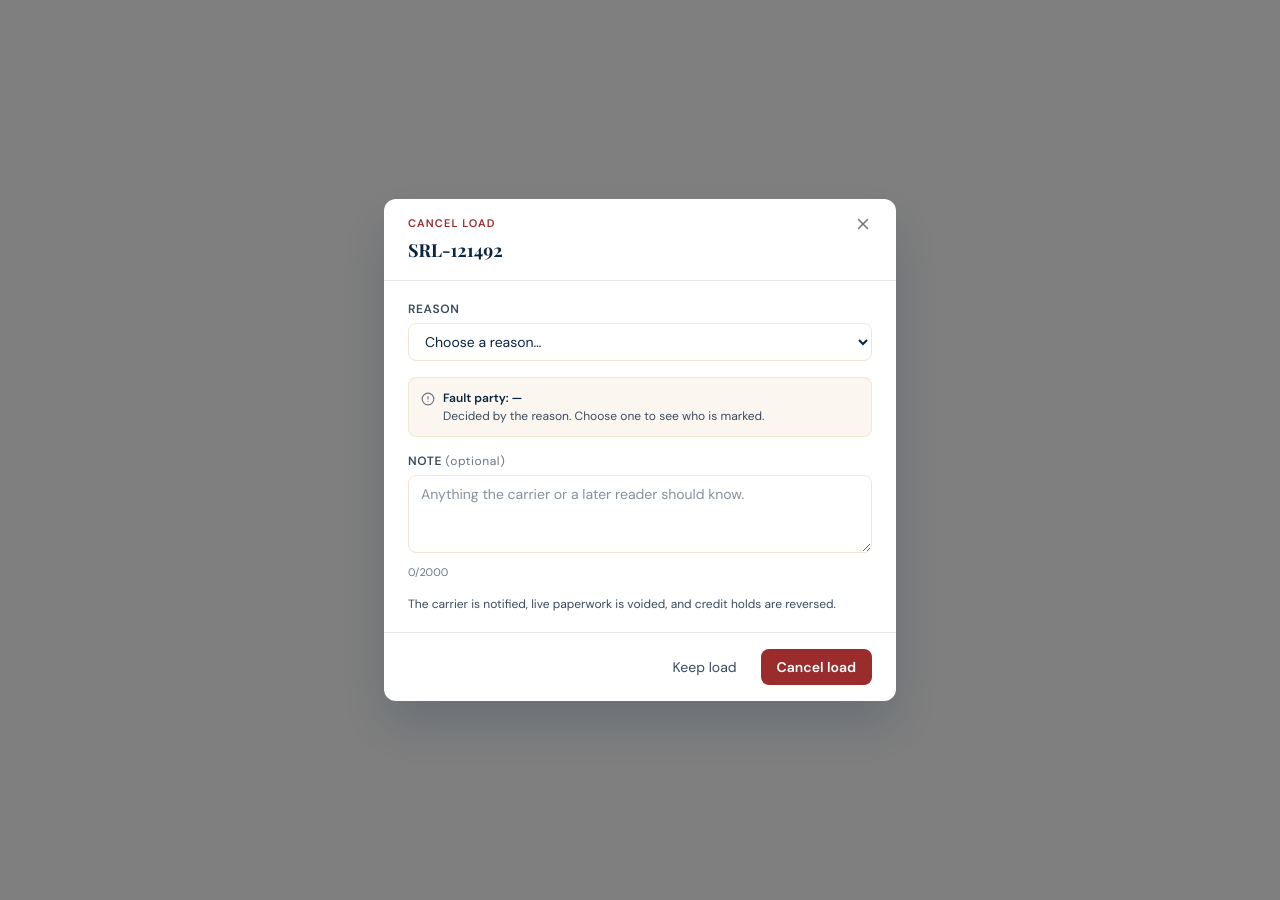
Test case: CancelLoadModal — a refusal is shown, not swallowed › prints a 409/422 error body when there are no details
Select "SHIPPER_CANCELLED" in the dropdown labelled "Reason" at [640, 342], box [408, 322, 872, 360]
Click the button "Cancel load".
click(816, 667)  # box [760, 649, 872, 685]
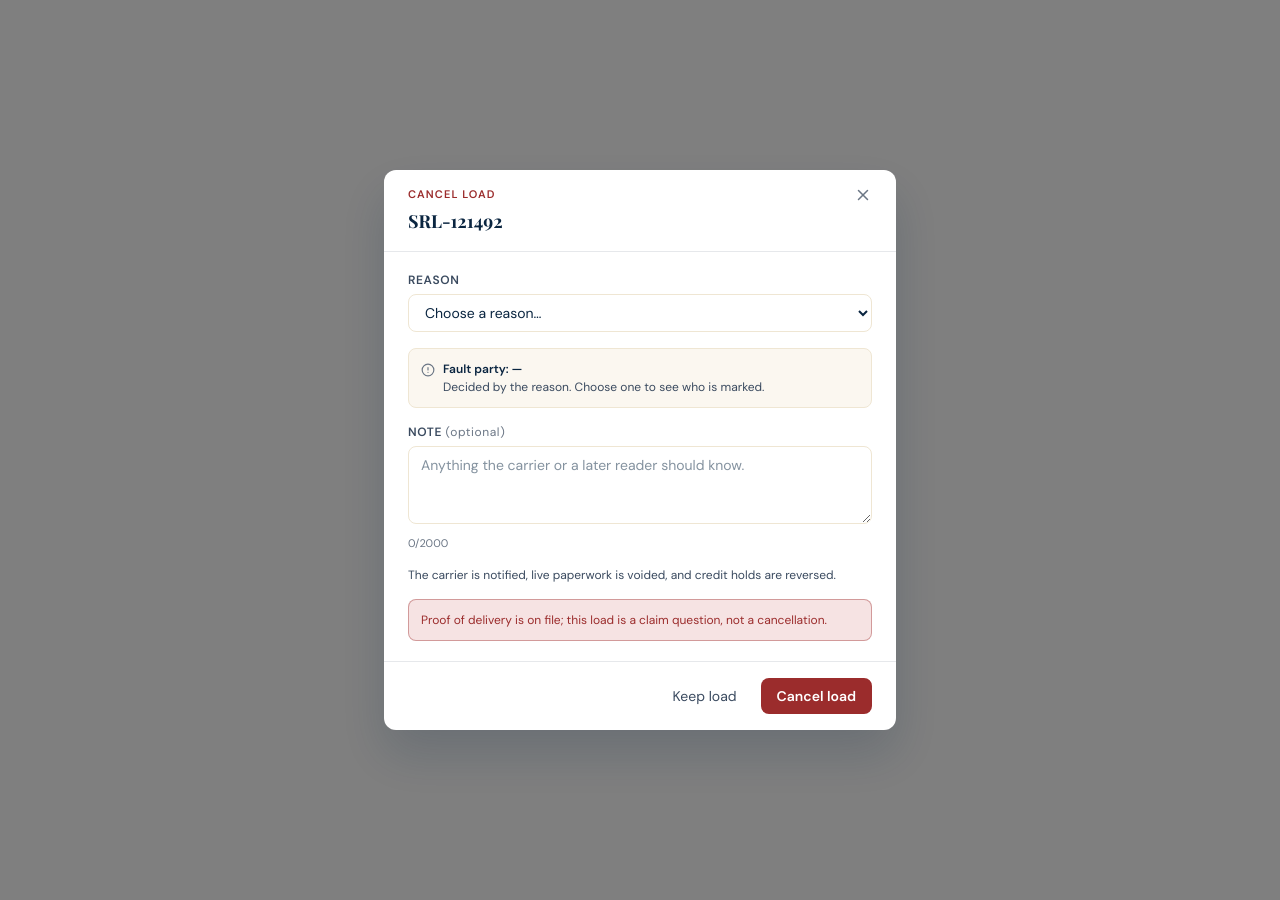
Result: the message shows "Proof of delivery is on file" at [421, 612, 827, 628]
